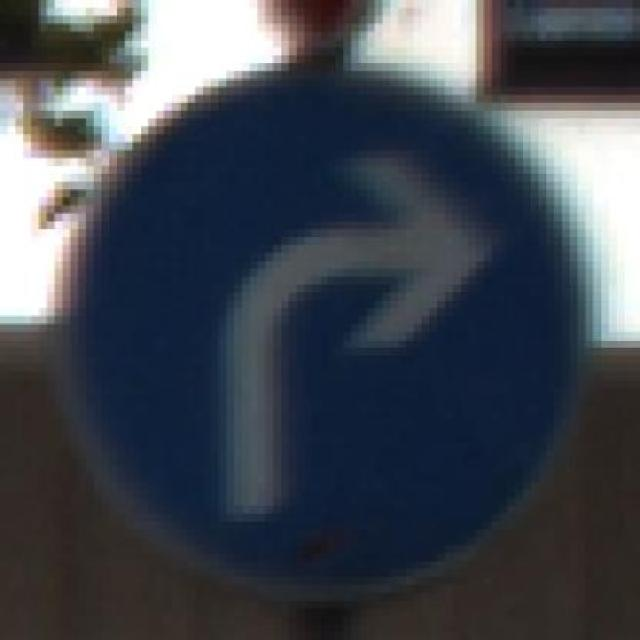Turn right ahead: (70, 63, 602, 609)
